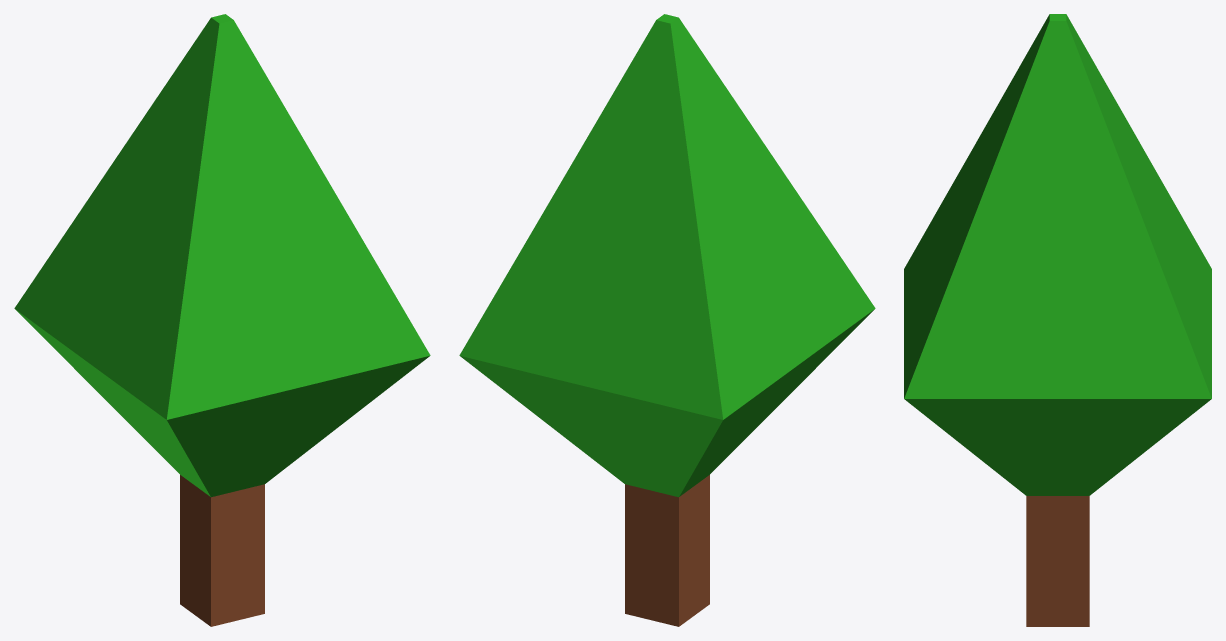
File: Tree3.fbx
The picture shows the model from 3 angles, left to right: view 1: azimuth 30°, elevation 25°; view 2: azimuth 150°, elevation 25°; view 3: azimuth 270°, elevation 25°; orthographic projection.
Parts seen in each view (by area): view 1: Tree03; view 2: Tree03; view 3: Tree03.
Part boxes in pixels (x1=…): Tree03: x1=14, y1=14, x2=430, y2=626; Tree03: x1=459, y1=14, x2=875, y2=626; Tree03: x1=904, y1=14, x2=1211, y2=626.
Size of the model in its own units: 976 by 2085 by 976.
